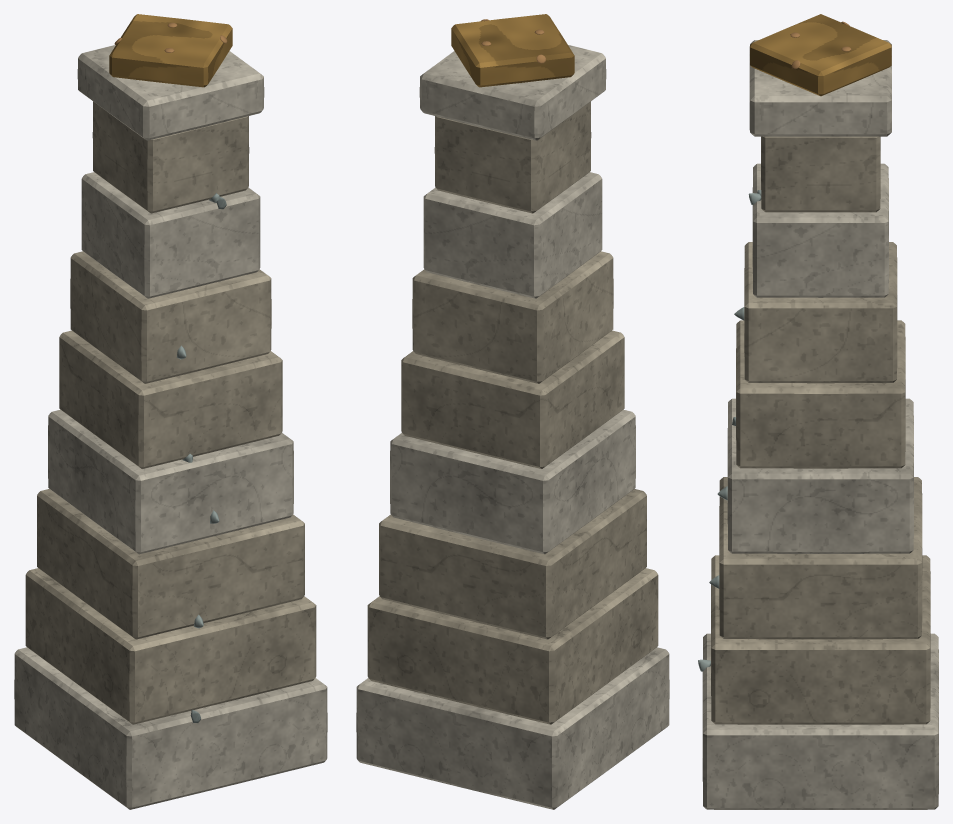
3 views of the same model, side by side, from view 1: azimuth 30°, elevation 25°; view 2: azimuth 150°, elevation 25°; view 3: azimuth 270°, elevation 25° (orthographic).
Parts seen in each view (by area): view 1: honed-limestone, carved-limestone-mouldings, aged-bronze; view 2: honed-limestone, carved-limestone-mouldings, aged-bronze; view 3: honed-limestone, carved-limestone-mouldings, aged-bronze.
Boxes of the visible parts, box(x1,y1,x2,y2) form: honed-limestone: box(25, 101, 316, 724); carved-limestone-mouldings: box(14, 45, 327, 809); aged-bronze: box(109, 14, 232, 87); honed-limestone: box(367, 101, 658, 724); carved-limestone-mouldings: box(356, 45, 669, 809); aged-bronze: box(451, 14, 574, 87); honed-limestone: box(711, 136, 930, 724); carved-limestone-mouldings: box(702, 40, 938, 809); aged-bronze: box(750, 14, 891, 96).
Size of the model in its own units: 0.68 by 2.29 by 0.6936.
Materials: 5 (3 with a texture image).
